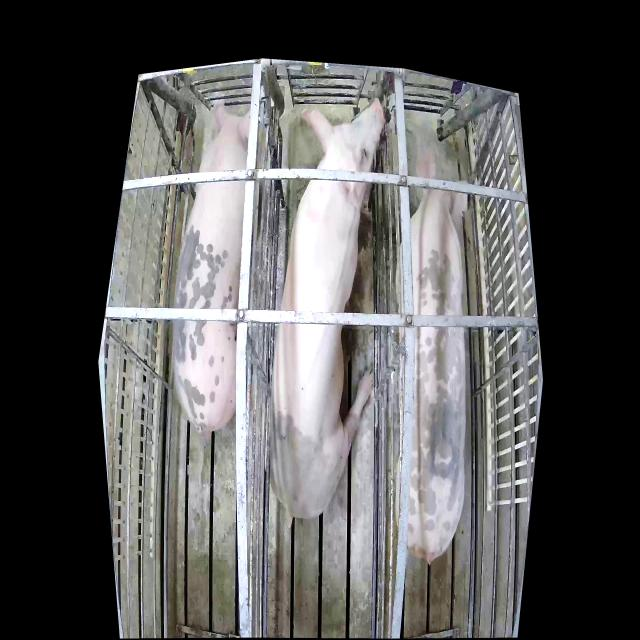pig: (270, 99, 387, 516), (394, 144, 468, 561), (174, 88, 251, 433)
